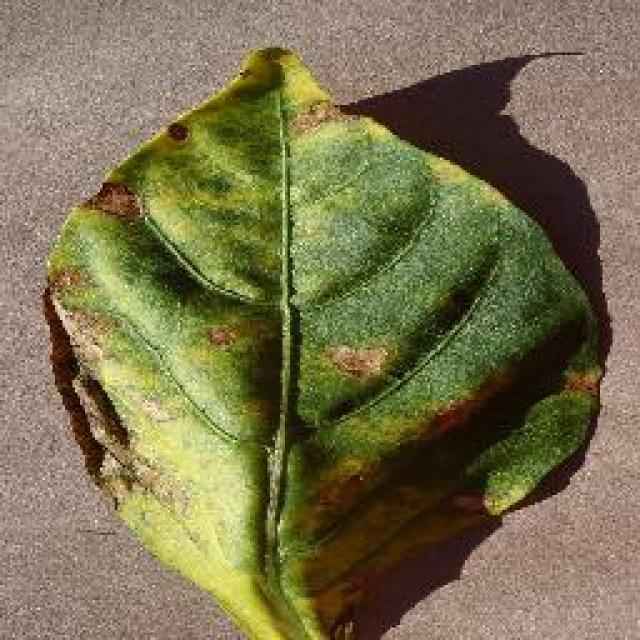Chilli_Bacterial_Spot: (38, 40, 608, 638), (325, 337, 393, 385), (233, 40, 295, 88), (85, 178, 143, 222), (285, 93, 335, 135), (557, 362, 605, 400), (202, 320, 240, 352), (162, 117, 192, 145), (325, 615, 360, 637)
